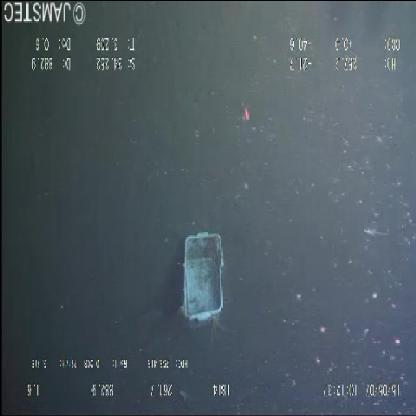Rác: (176, 216, 230, 340)
